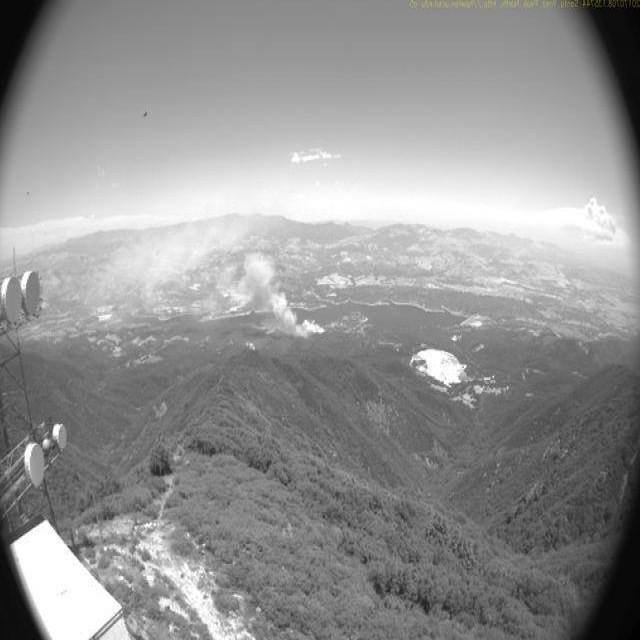Smoke: (107, 214, 334, 342)
